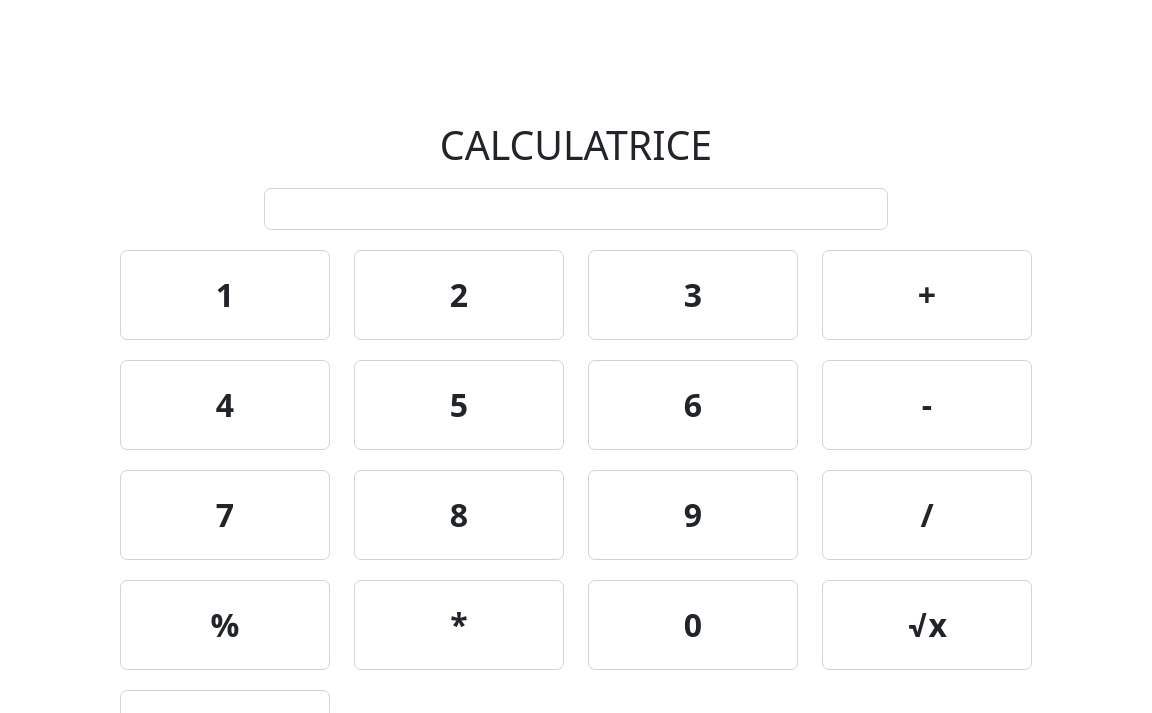
it: Calculator › Test minor
Click the text "2". click: click(459, 295)
box: [354,250,564,340]
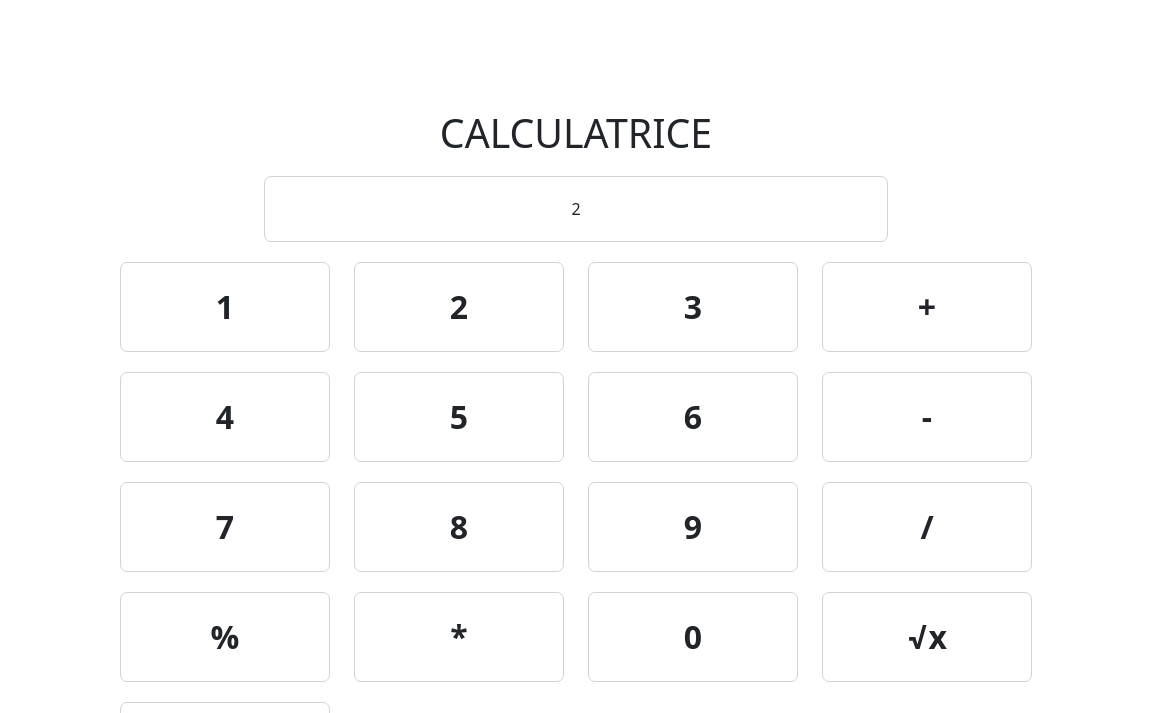
Click the text "-". click: click(927, 417)
box: [822,372,1032,462]
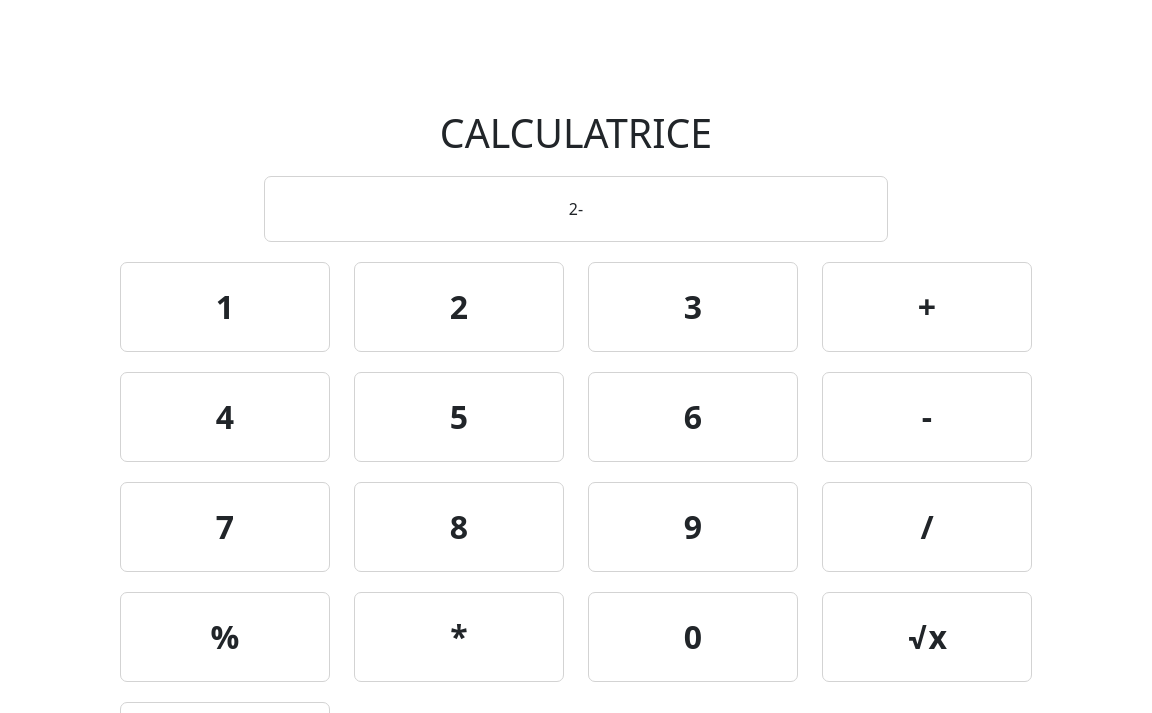
Click the text "3". click: click(693, 307)
box: [588,262,798,352]
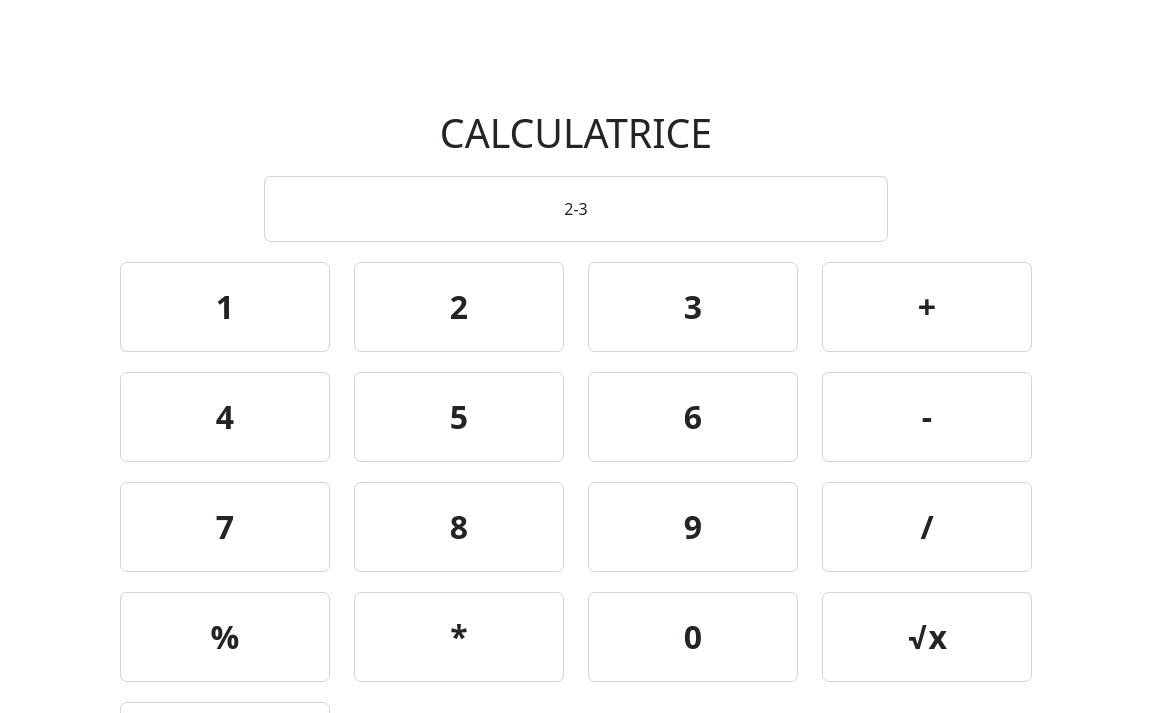
Scroll
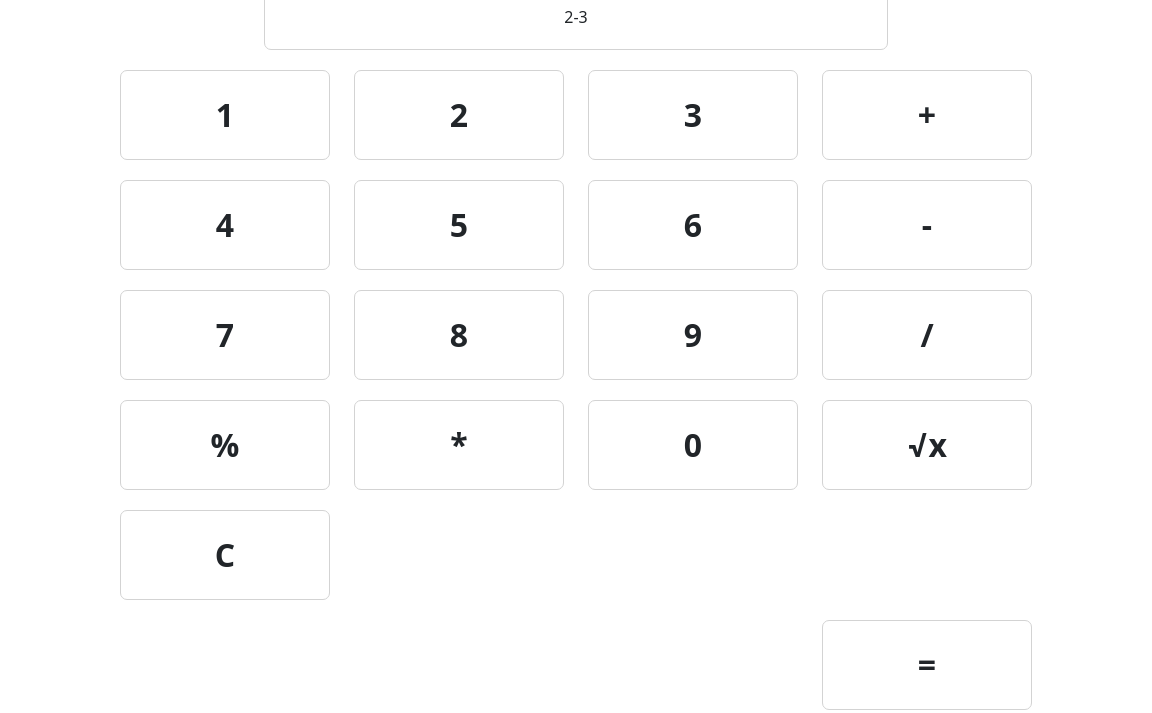
Click the text "=". click: click(927, 665)
box: [822,620,1032,710]
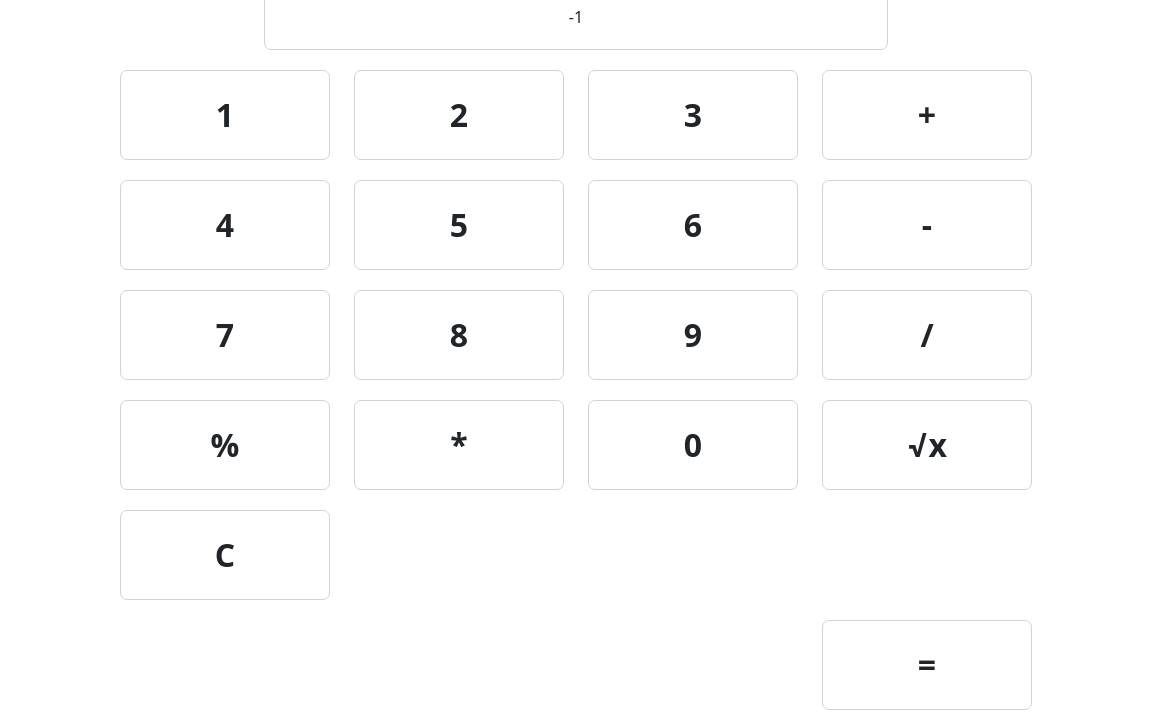
Now the text "1" is shown, box [569,6,583,28]
